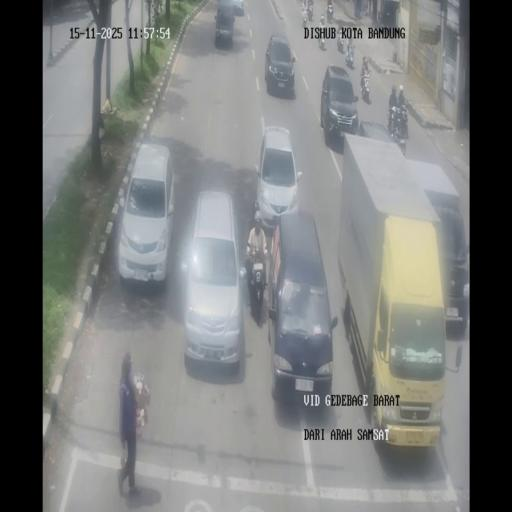3: (338, 134, 452, 447)
car: (266, 212, 334, 406), (181, 188, 244, 370), (118, 141, 174, 286), (427, 194, 470, 330), (255, 125, 301, 232), (320, 64, 358, 146), (264, 33, 295, 97), (214, 0, 235, 46), (231, 0, 244, 16)
truck: (247, 247, 266, 321), (387, 104, 408, 152), (360, 72, 371, 103), (345, 45, 354, 67), (360, 55, 369, 77), (337, 30, 345, 53), (326, 1, 334, 22), (307, 1, 314, 21), (302, 7, 308, 27), (319, 34, 326, 50), (362, 0, 368, 17), (377, 9, 382, 23), (320, 13, 324, 26)
